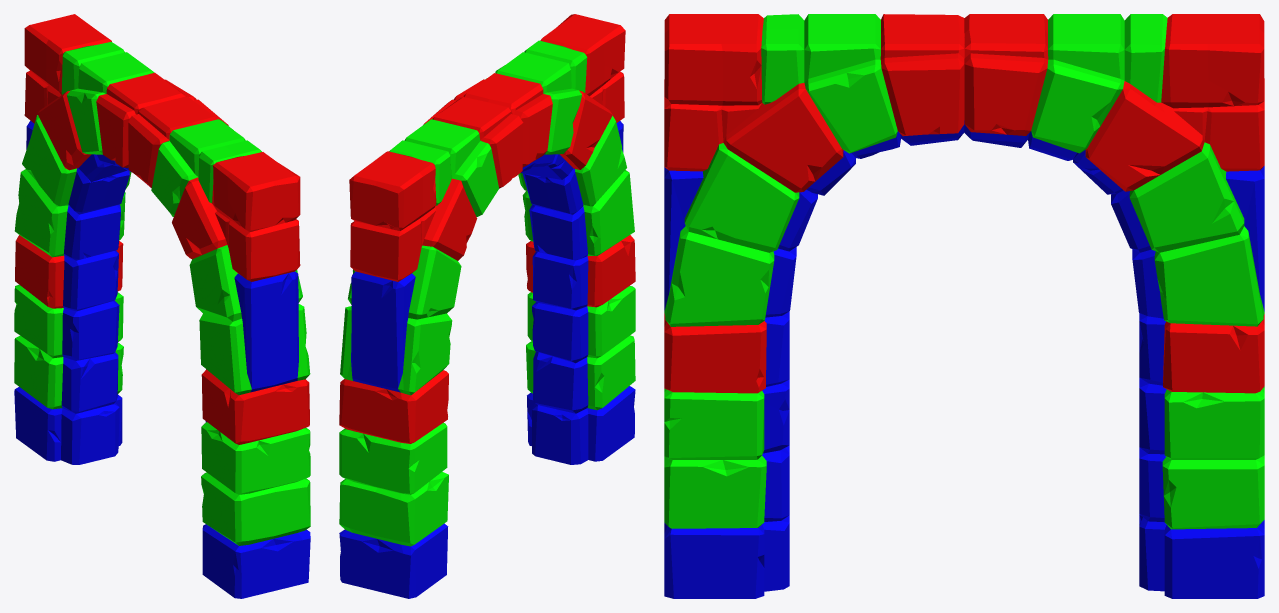
File: SM_Gate_1.fbx
The picture shows the model from 3 angles, left to right: view 1: azimuth 30°, elevation 25°; view 2: azimuth 150°, elevation 25°; view 3: azimuth 270°, elevation 25°; orthographic projection. The views are drawn at different scales.
Parts seen in each view (by area): view 1: Mesh; view 2: Mesh; view 3: Mesh.
Boxes of the visible parts, x1,y1,x2,y2 form: Mesh: [14, 14, 310, 598]; Mesh: [339, 14, 635, 598]; Mesh: [664, 14, 1264, 598].
Size of the model in its own units: 116 by 602 by 601.
